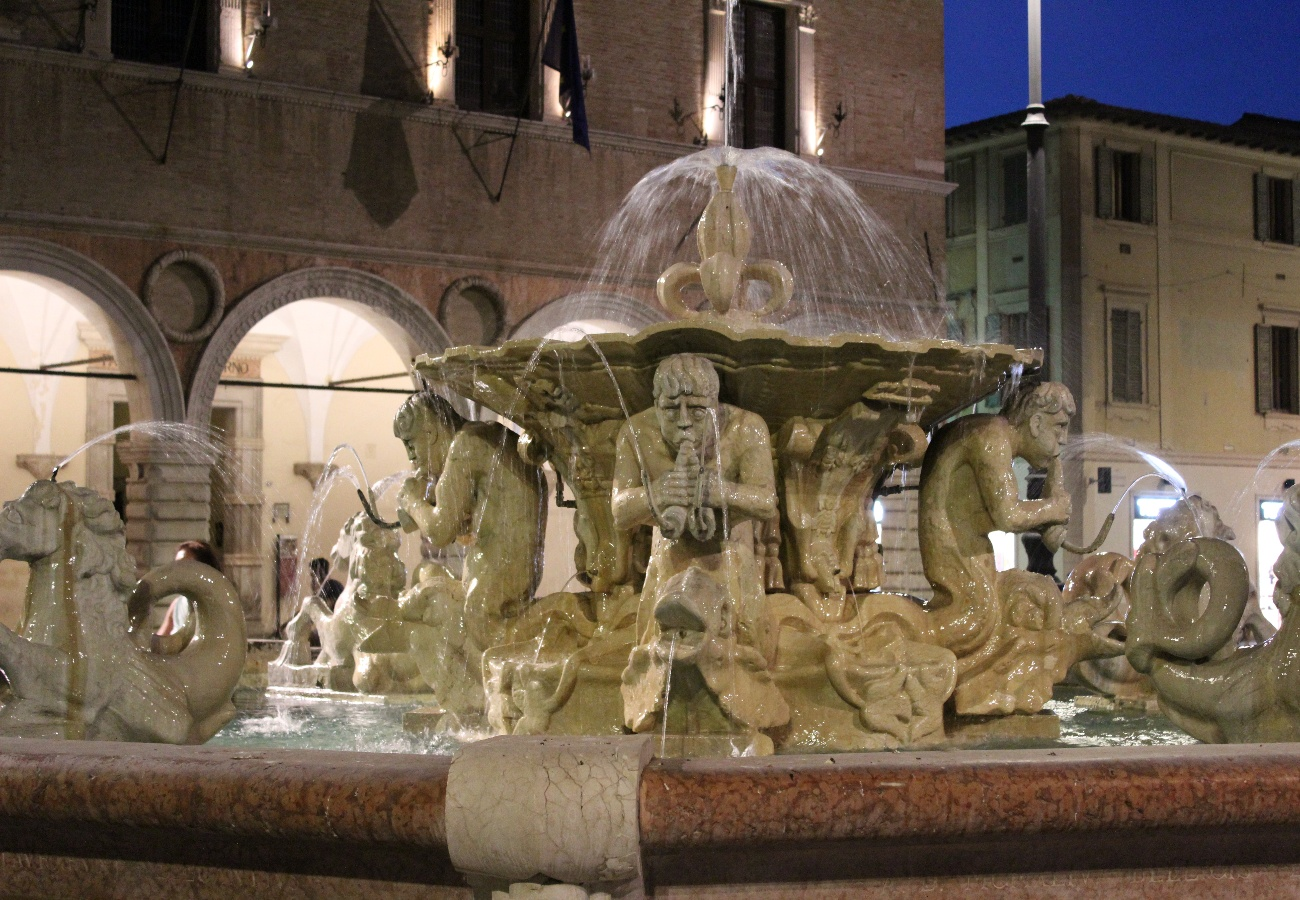Fontana Piazza del Popolo: (363, 325, 1119, 751)
